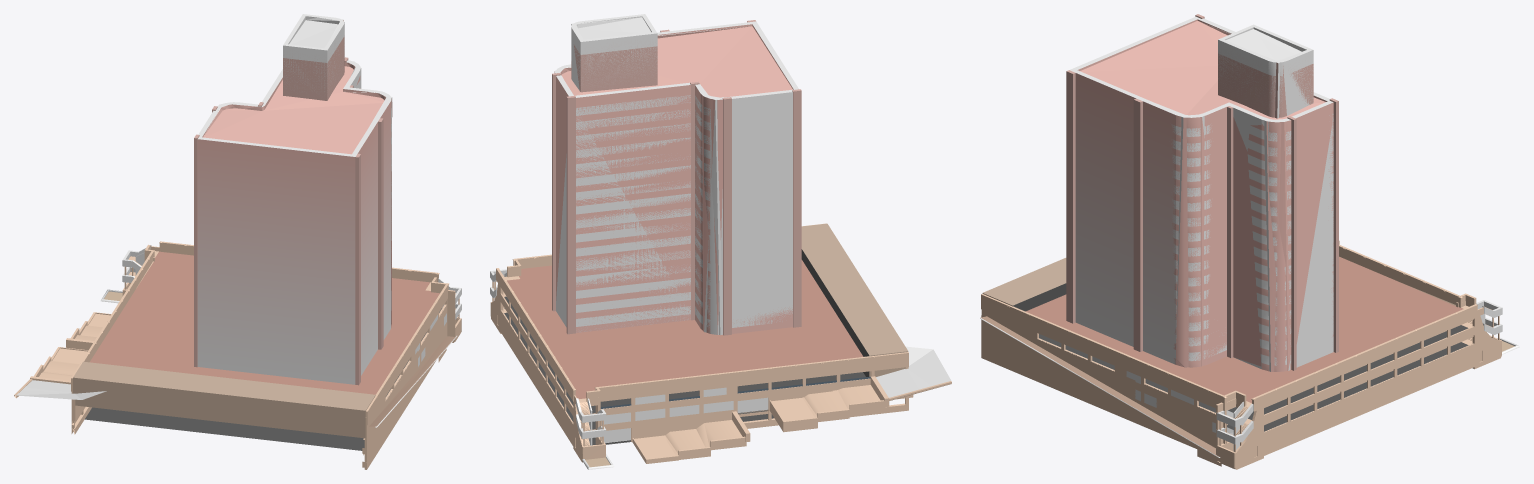
The model's file is condo_parking.dae.
The picture shows the model from 3 angles, left to right: view 1: azimuth 30°, elevation 25°; view 2: azimuth 150°, elevation 25°; view 3: azimuth 270°, elevation 25°; orthographic projection. The views are drawn at different scales.
Visible parts, largest first — view 1: Colmesh_condo_parking-1, condo_parking_L649, condo_parking_L249, condo_parking_L149; view 2: condo_parking_L249, condo_parking_L649, Colmesh_condo_parking-1, condo_parking_L149; view 3: Colmesh_condo_parking-1, condo_parking_L649, condo_parking_L249, condo_parking_L149.
Boxes of the visible parts, bbox=[...] form: Colmesh_condo_parking-1: bbox=[71, 25, 461, 469]; condo_parking_L649: bbox=[14, 14, 460, 467]; condo_parking_L249: bbox=[16, 14, 459, 466]; condo_parking_L149: bbox=[15, 17, 445, 453]; condo_parking_L249: bbox=[491, 14, 951, 469]; condo_parking_L649: bbox=[490, 14, 951, 469]; Colmesh_condo_parking-1: bbox=[490, 31, 908, 448]; condo_parking_L149: bbox=[497, 17, 951, 462]; Colmesh_condo_parking-1: bbox=[981, 40, 1502, 469]; condo_parking_L649: bbox=[980, 14, 1519, 467]; condo_parking_L249: bbox=[980, 14, 1517, 465]; condo_parking_L149: bbox=[988, 20, 1500, 468].
Bounding box in the file's own units: 120 × 115 × 84.89.
